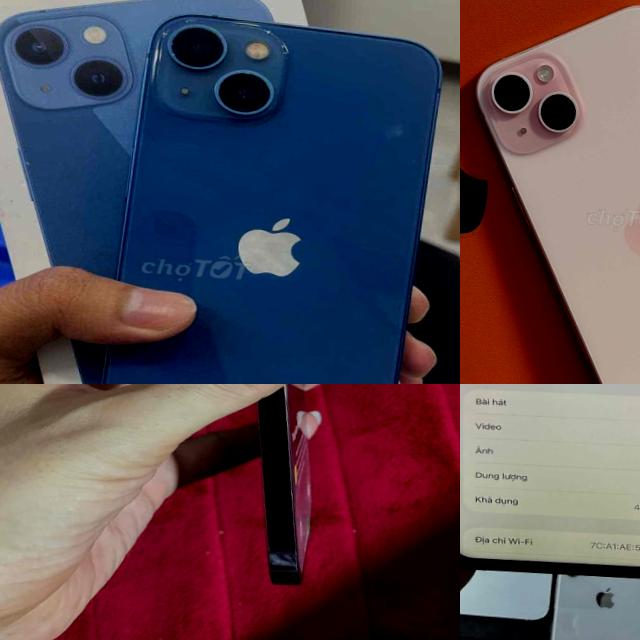gen_11: (460, 384, 640, 577)
gen_12_13: (88, 4, 434, 384)
gen_14: (192, 384, 375, 603)
gen_15: (460, 0, 640, 384)
